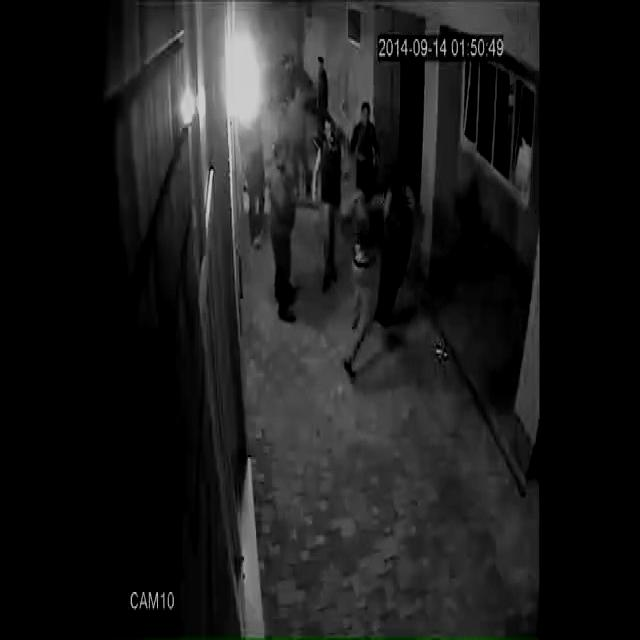fight: (342, 168, 415, 380)
